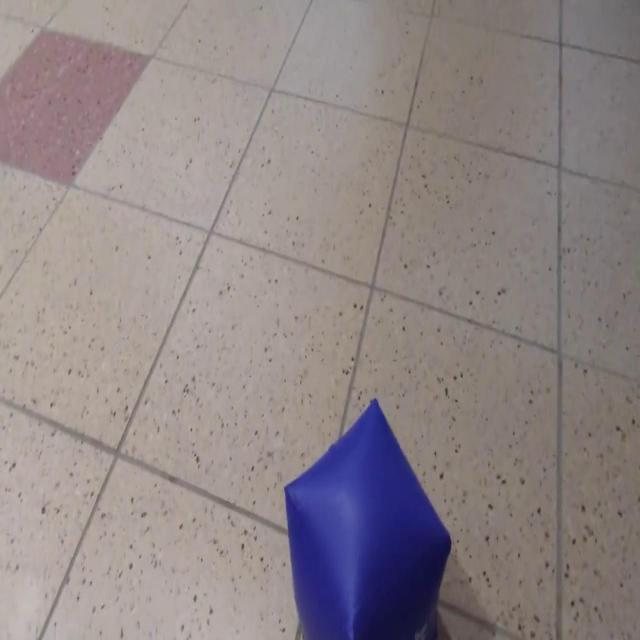frc_cube: (288, 397, 452, 640)
